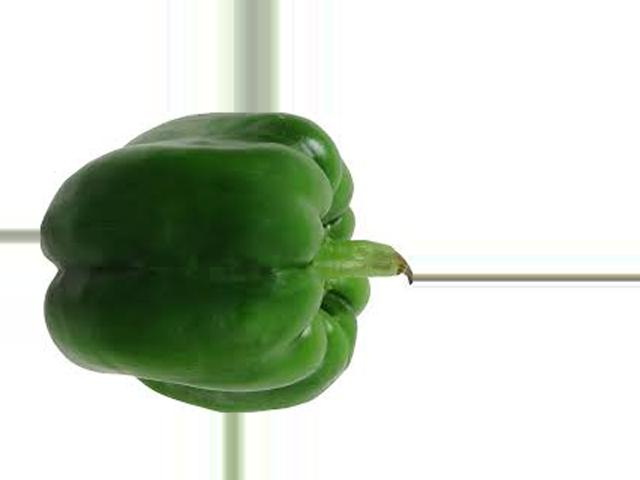bell_pepper: (37, 117, 405, 410)
